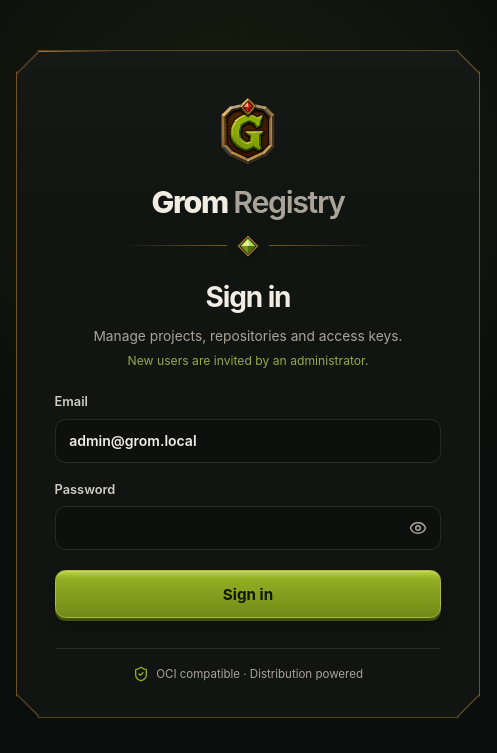
Scenario: SignInPage › renders a sign-in error as an alert
Step 1. Type "wrong-password" into the password field labelled "Password" → (248, 528), box [55,506,441,550]
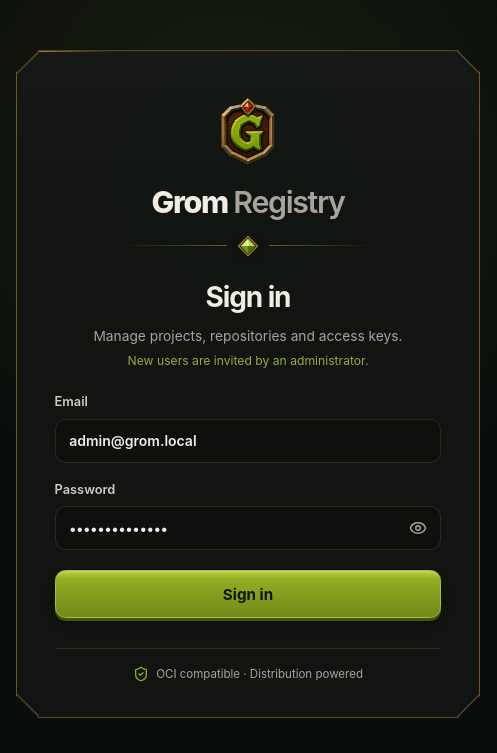
Step 2. Submit the form, box [55,276,441,683]
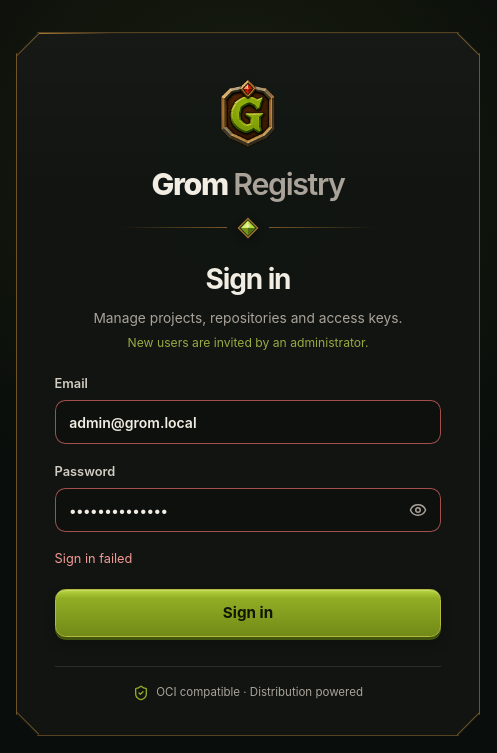
Check: the message "Sign in failed" is shown, box [55,551,132,566]
